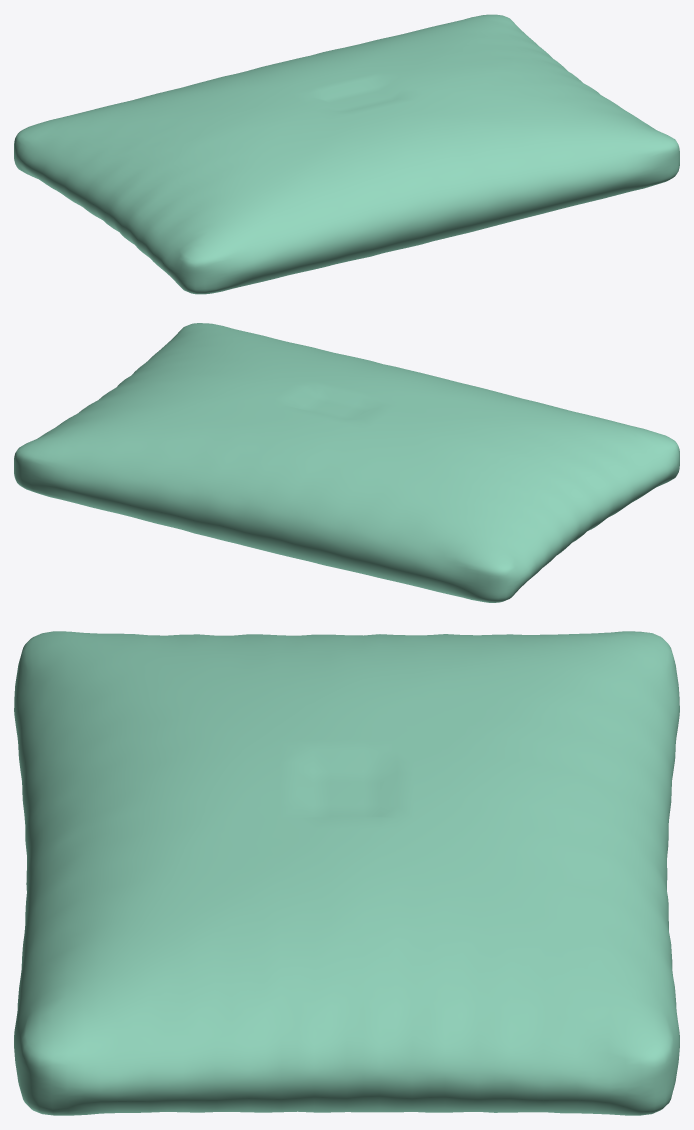
The model's file is pillow_arusu.fbx.
The picture shows the model from 3 angles, top to bottom: view 1: azimuth 30°, elevation 25°; view 2: azimuth 150°, elevation 25°; view 3: azimuth 270°, elevation 25°; orthographic projection. The views are drawn at different scales.
Visible parts, largest first — view 1: Cube; view 2: Cube; view 3: Cube.
Part boxes in pixels (x1,y1,x2,y2): Cube: [14, 14, 679, 294]; Cube: [14, 323, 679, 602]; Cube: [14, 631, 679, 1115].
Bounding box in the file's own units: 199 × 42.83 × 128.
